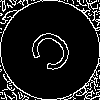C: (25, 25, 84, 83)
